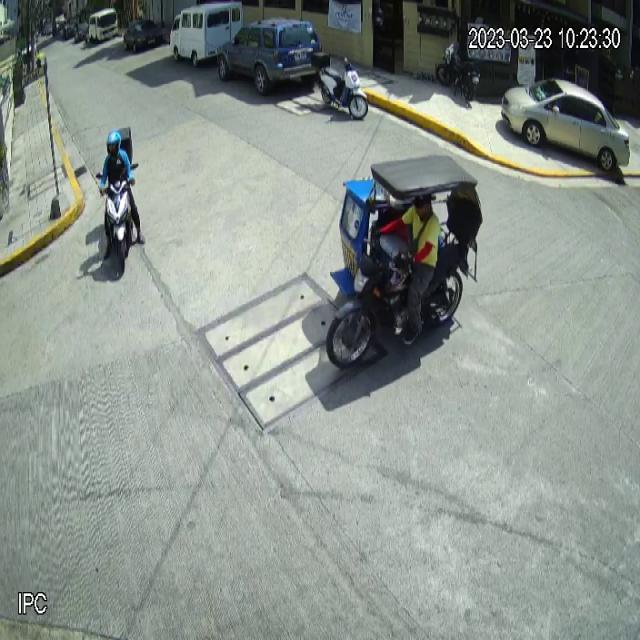Car: (501, 79, 631, 172), (216, 15, 322, 97)
Motorcycle: (95, 161, 140, 271), (312, 51, 368, 120)
Tricycle: (325, 153, 480, 367)
Van: (169, 0, 243, 67)
